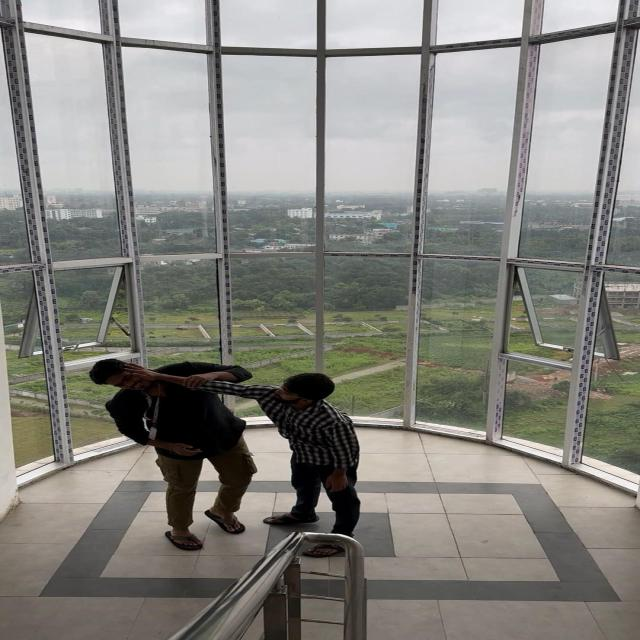fight: (74, 335, 473, 565)
